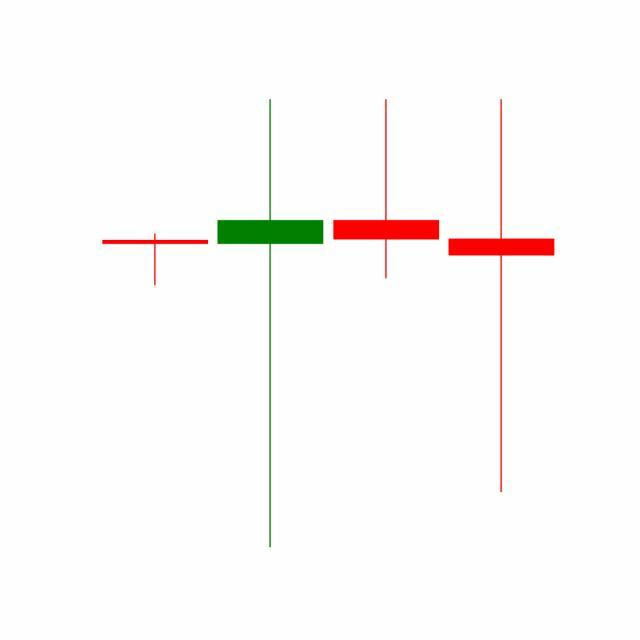Spinning Top: (444, 96, 560, 498)
